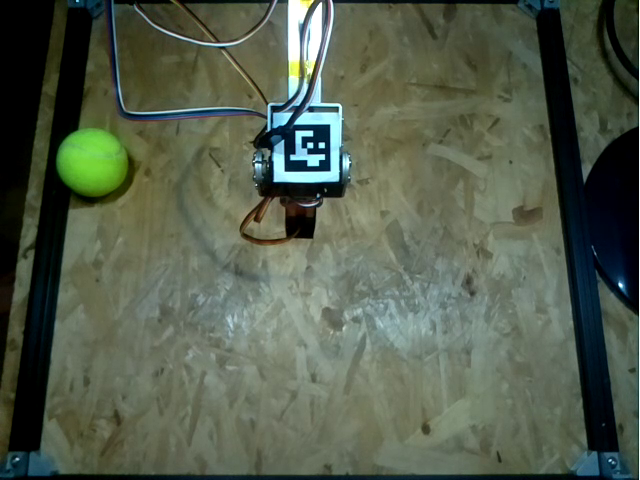tennis_ball: (58, 126, 129, 199)
